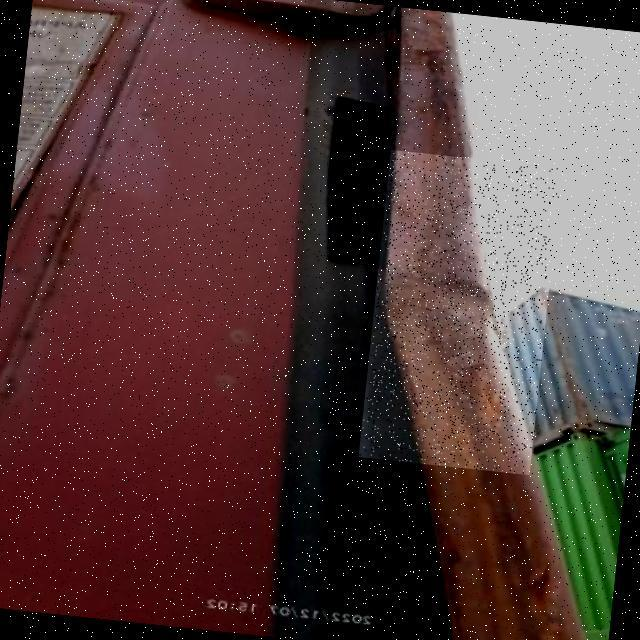Dent: (376, 157, 531, 464)
